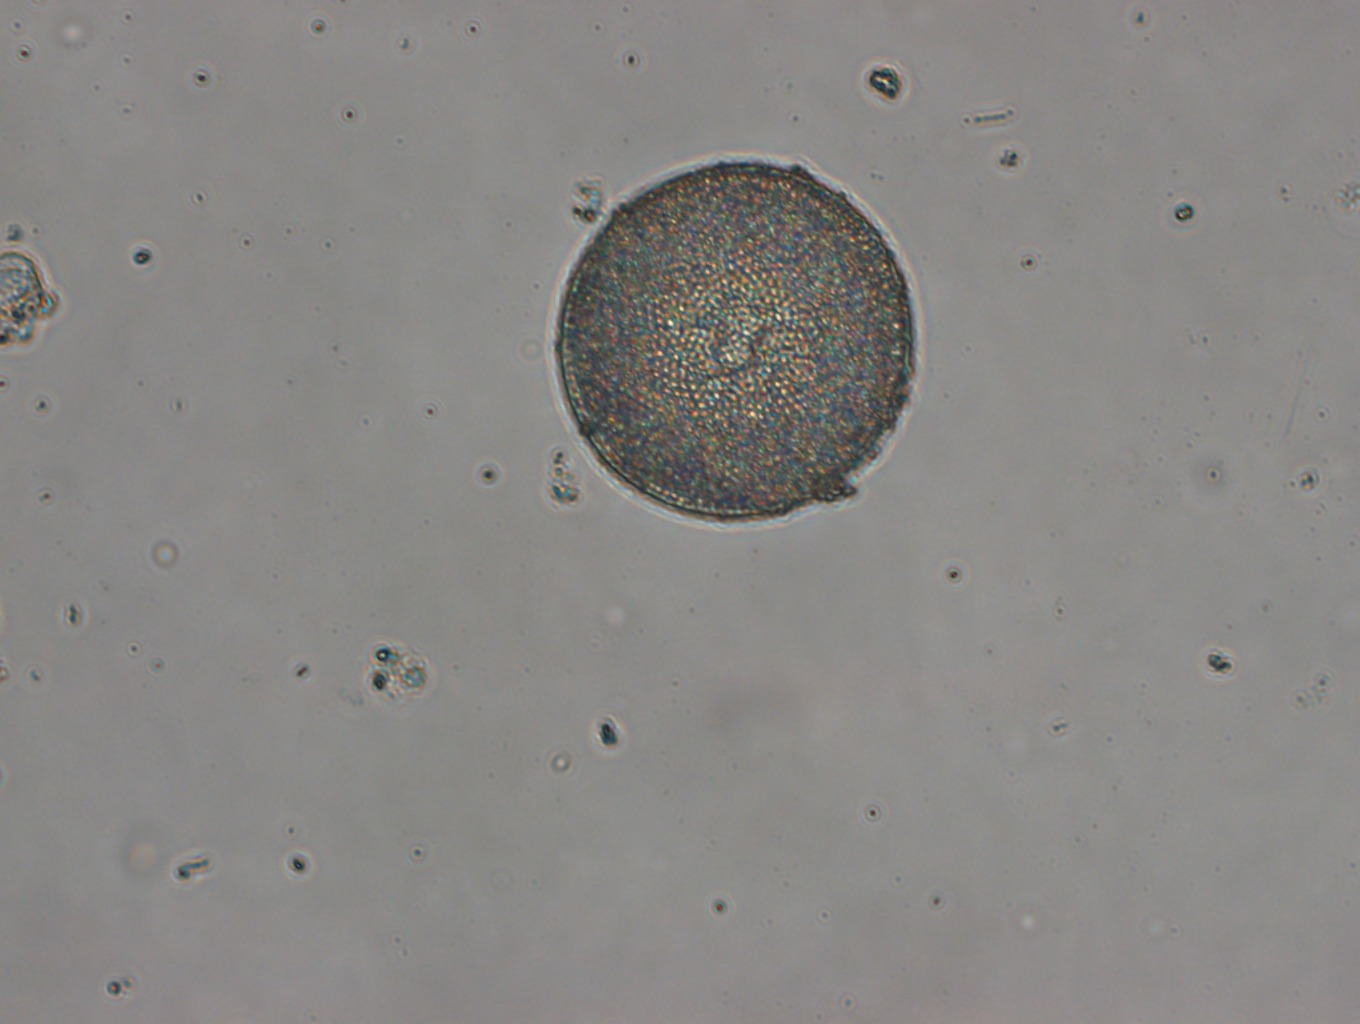coscinodiscus: (547, 151, 924, 529)
